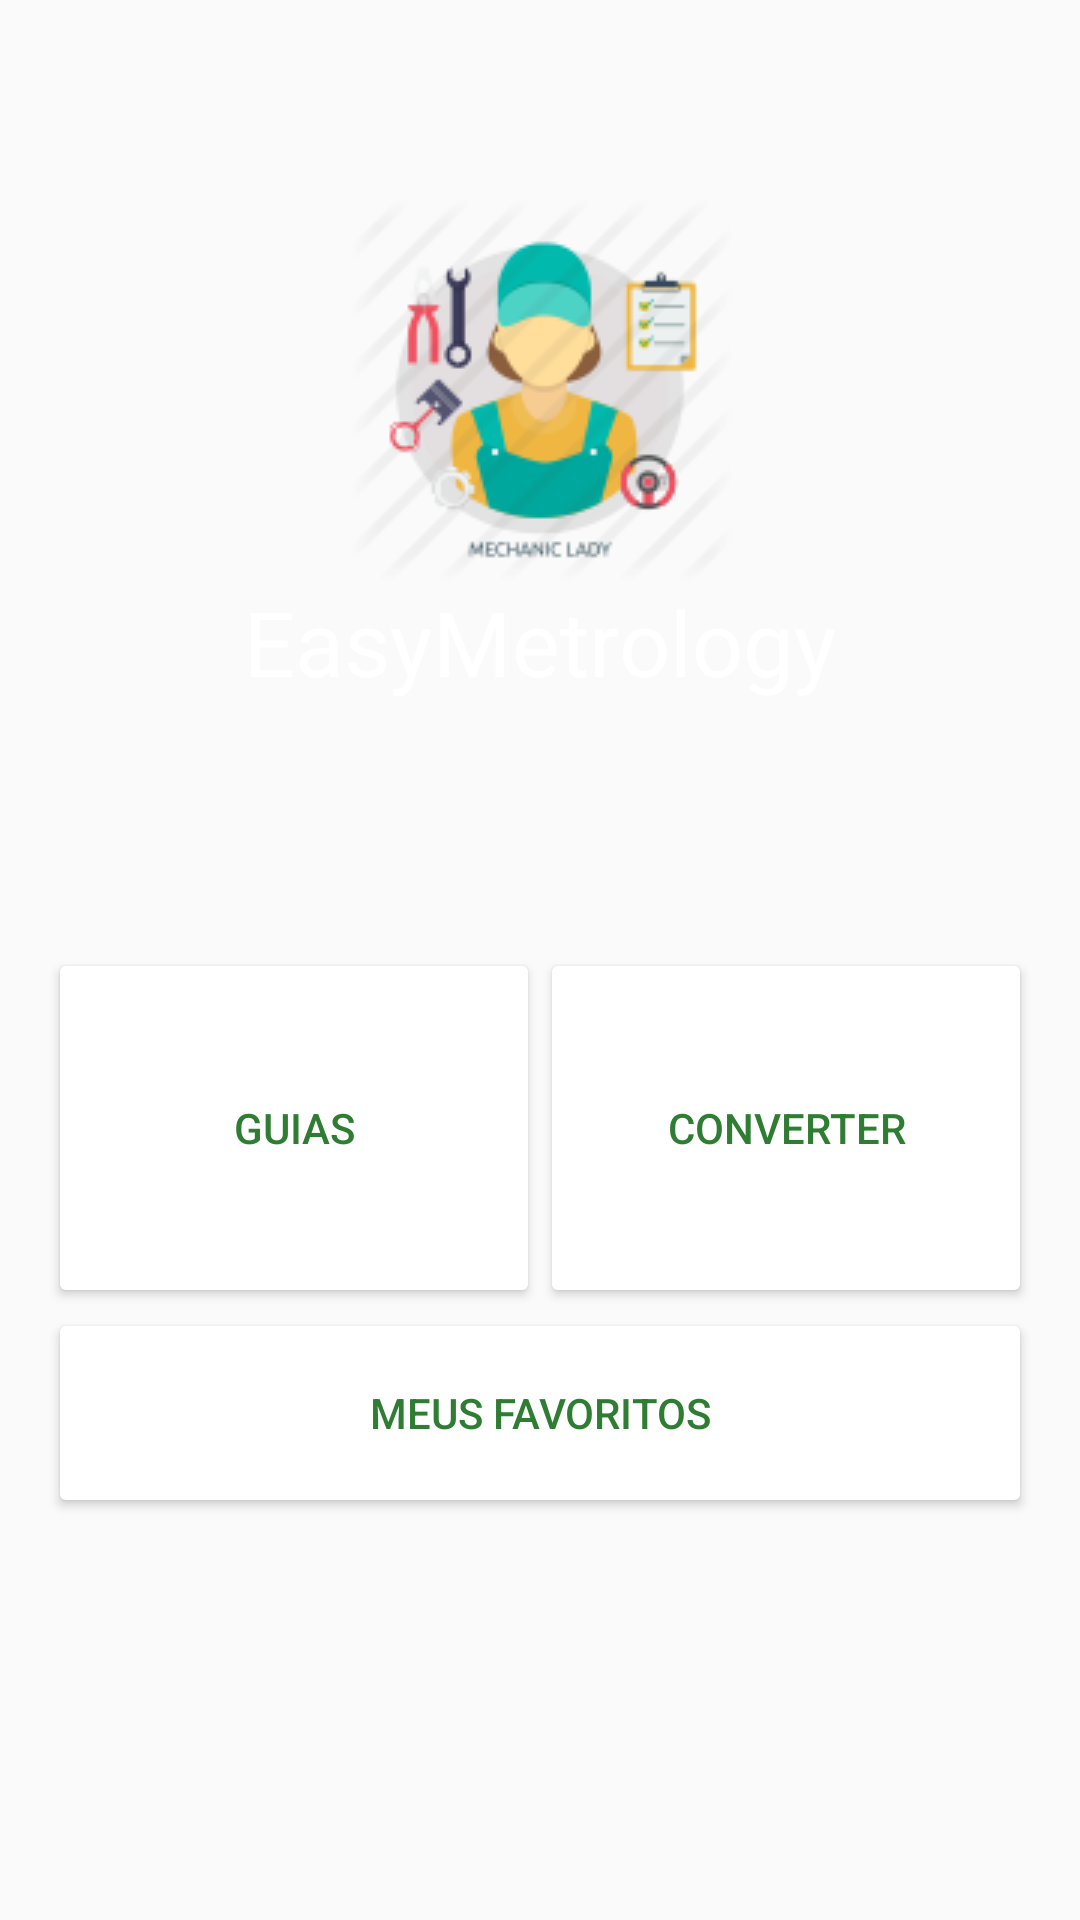

Icons on this 1080px x 1920px Android screen, each with the point to tap as (x,y):
mechicon: (543,399)
